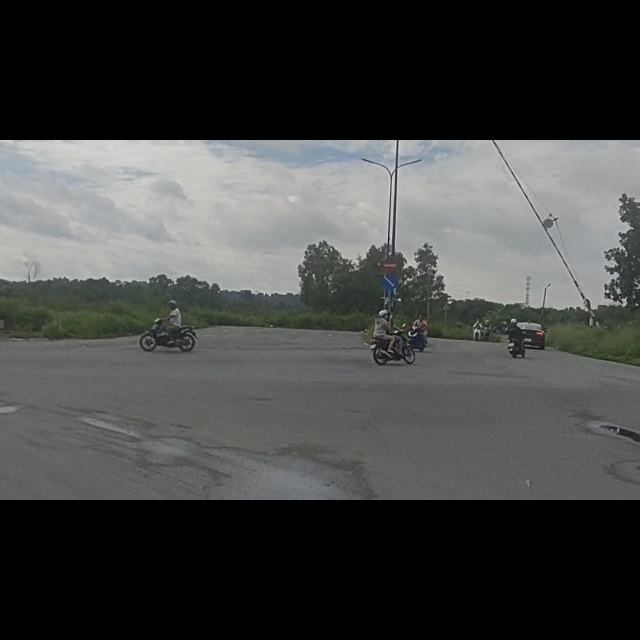bien_cam: (381, 233, 399, 263), (383, 207, 399, 235)
